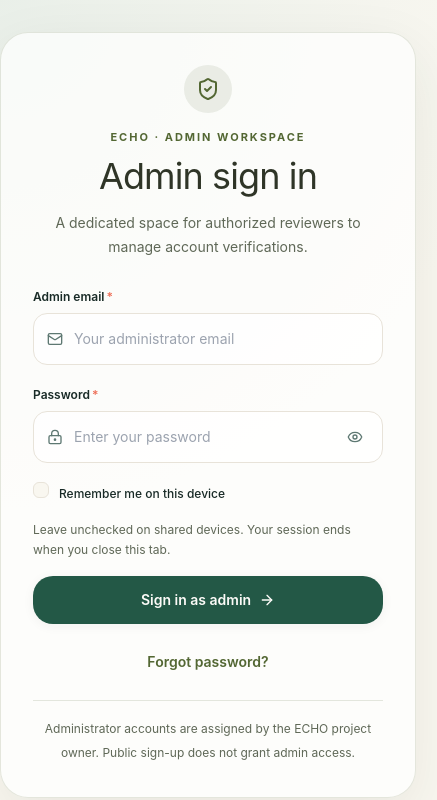
Dedicated admin sign in › does not check roles after invalid credentials
This screenshot has width=437, height=800.
Type "reviewer@example.invalid" into the field labelled "Admin email*". click: (208, 338)
box: x1=33 y1=312 x2=383 y2=364
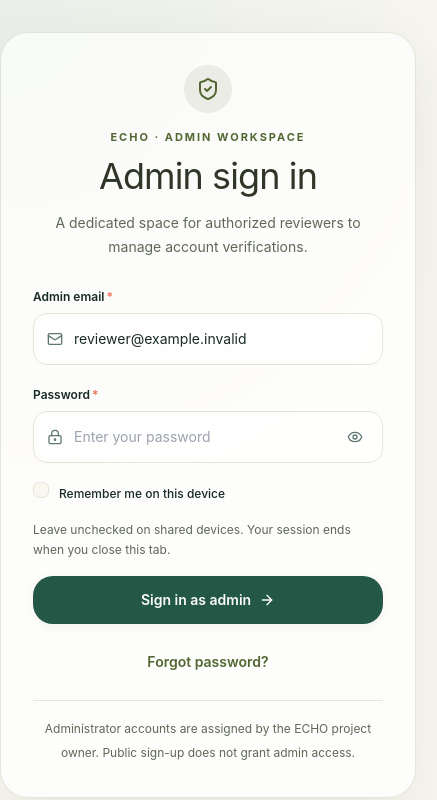
Type "test-only-password" into the password field labelled "Password*". click: (208, 436)
box: x1=33 y1=410 x2=383 y2=462
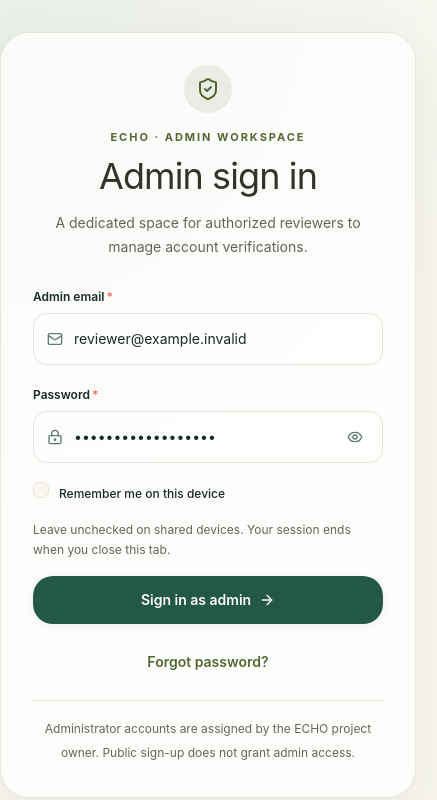
Click the button "Sign in as admin". click: (208, 600)
box: x1=33 y1=576 x2=383 y2=624
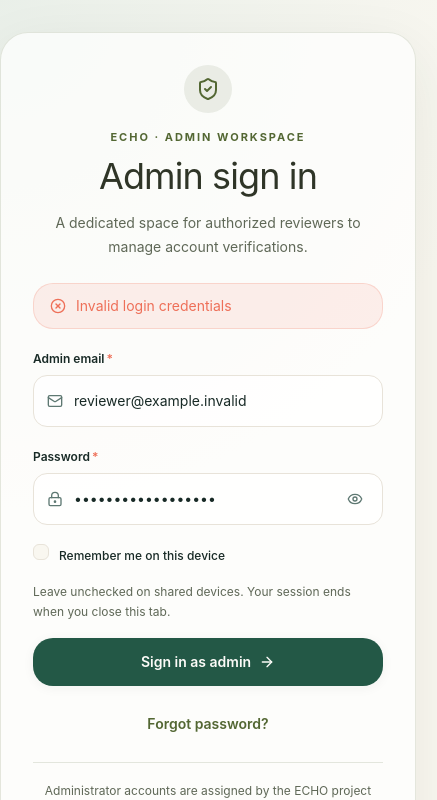
Check: the message reads "Invalid login credentials", box x1=76 y1=296 x2=232 y2=314
